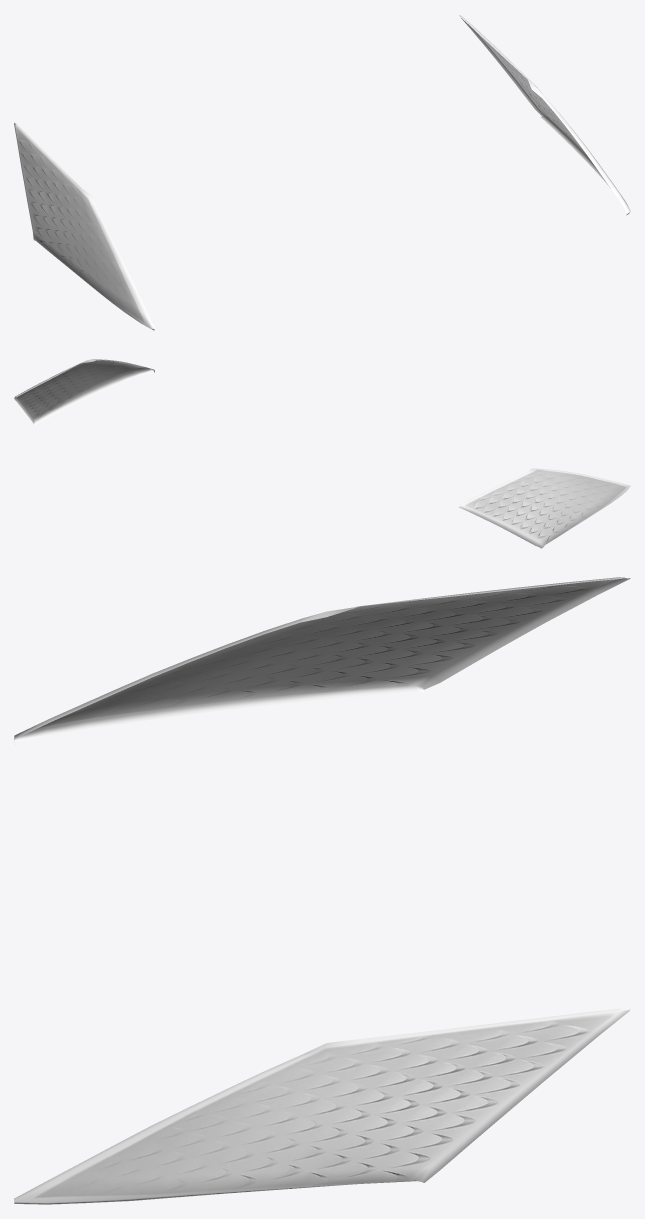
File: sticker.glb
3 renders of one model, top to bottom at view 1: azimuth 30°, elevation 25°; view 2: azimuth 150°, elevation 25°; view 3: azimuth 270°, elevation 25°, orthographic. The views are drawn at different scales.
Parts seen in each view (by area): view 1: sticker; view 2: sticker; view 3: sticker.
Part boxes in pixels (bbox=[...]): sticker: bbox=[14, 15, 630, 330]; sticker: bbox=[14, 359, 630, 548]; sticker: bbox=[14, 577, 630, 1204].
Size of the model in its own units: 1.28 by 0.22 by 0.6743.
Materials: 1 (1 with a texture image).
